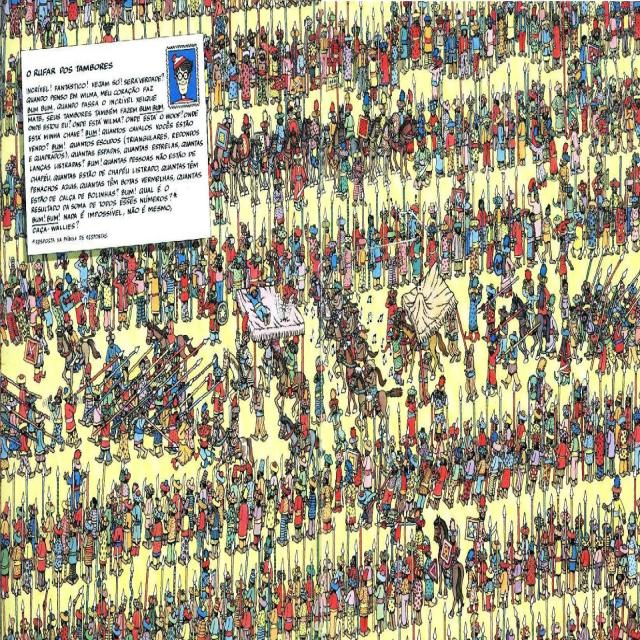waldo: (171, 54, 193, 95), (286, 103, 293, 118)
